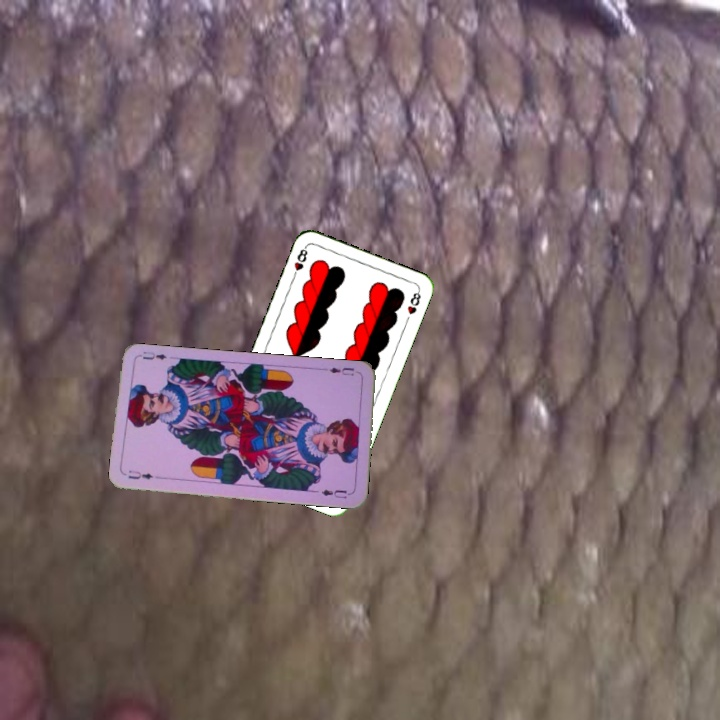EU: (321, 363, 357, 378), (124, 467, 155, 482)
H8: (289, 242, 310, 282)
